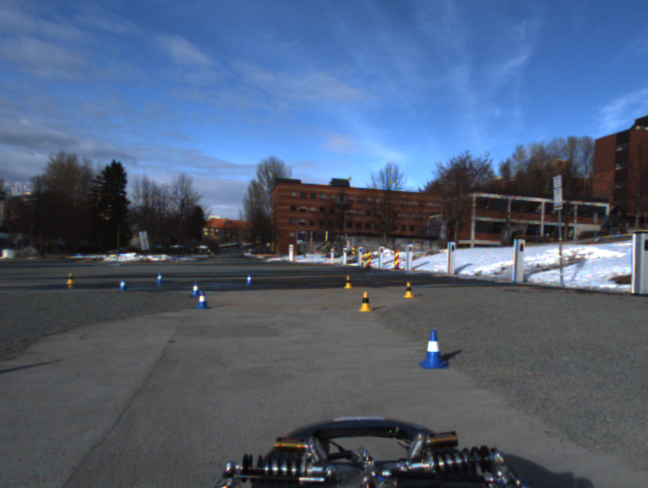cone-small-blue: (419, 329, 449, 368), (194, 291, 210, 310), (189, 281, 200, 297), (244, 274, 254, 286), (119, 278, 128, 291), (155, 272, 163, 284)
cone-small-yellow: (358, 291, 373, 312), (402, 281, 415, 298), (343, 275, 353, 289), (66, 273, 76, 285)
